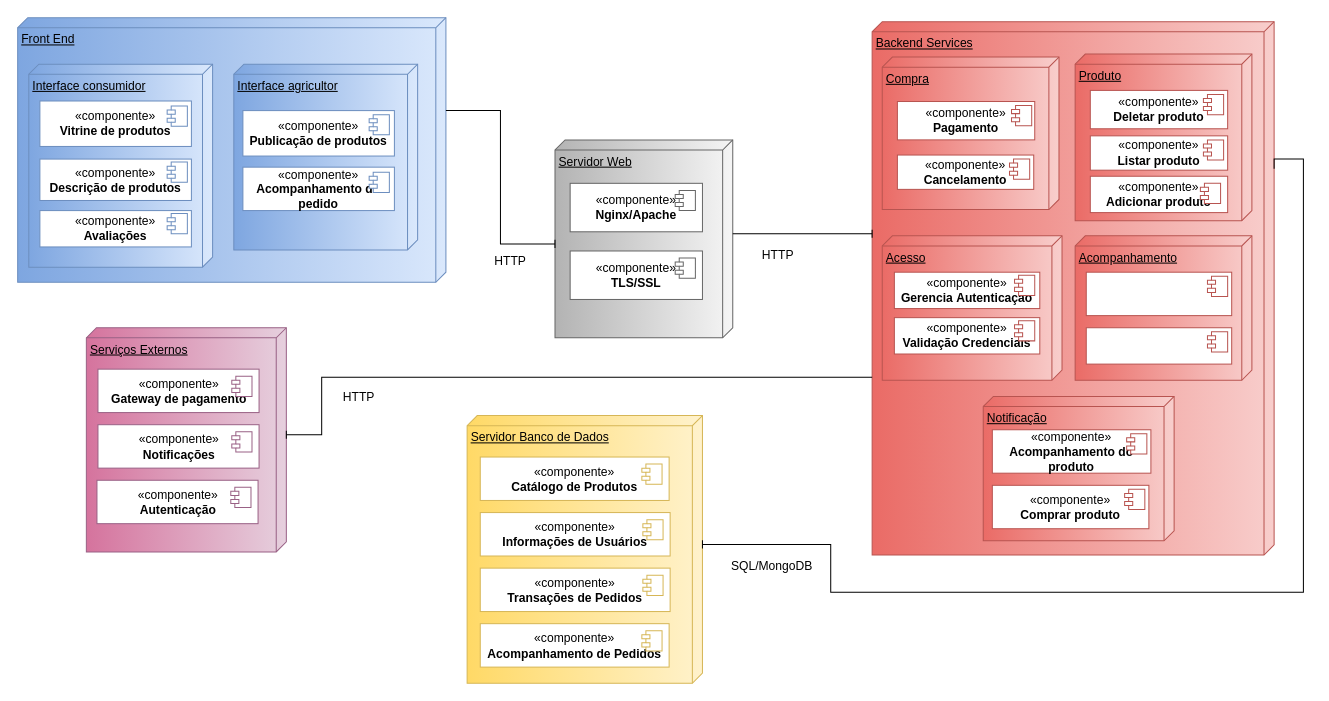
Image size: 1329x701. Some labels were removed from this diagram. Each missing label, with the centre of its shape:
"«componente» Atualizar localização pacote" belongs at pixel 1158 293.
"«componente» Avaliação produto" belongs at pixel 1158 345.
